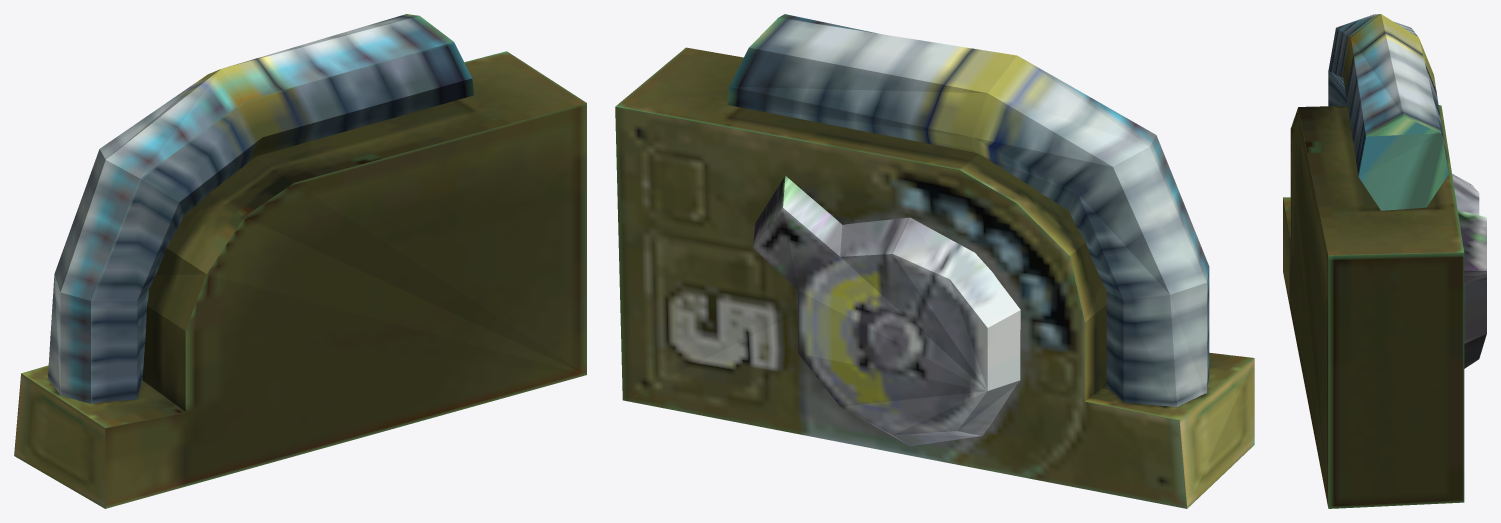
The model's file is WPARABPACK.obj.
The picture shows the model from 3 angles, left to right: view 1: azimuth 30°, elevation 25°; view 2: azimuth 150°, elevation 25°; view 3: azimuth 270°, elevation 25°; orthographic projection. The views are drawn at different scales.
Parts seen in each view (by area): view 1: Node 0; view 2: Node 0; view 3: Node 0.
Boxes of the visible parts, x1,y1,x2,y2 form: Node 0: (14,14,586,508); Node 0: (615,14,1254,508); Node 0: (1283,14,1486,508).
Size of the model in its own units: 0.74 by 0.5 by 0.27.
1 material, 1 textured.
